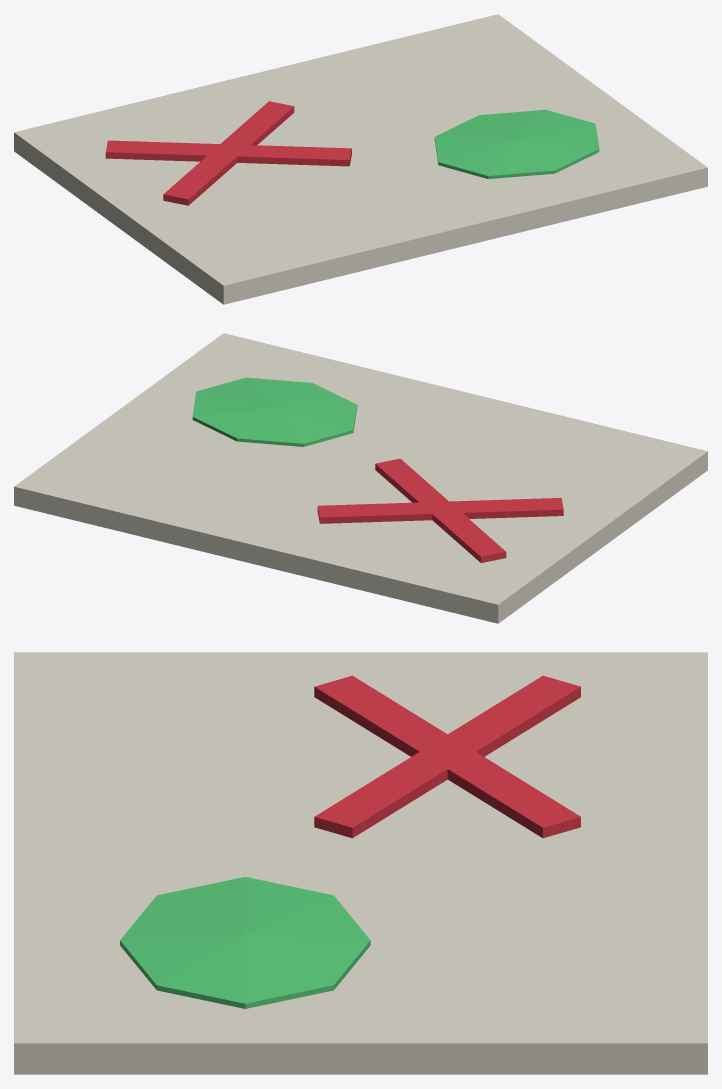
File: formula_sheet.glb
3 views of the same model, one above another, from view 1: azimuth 30°, elevation 25°; view 2: azimuth 150°, elevation 25°; view 3: azimuth 270°, elevation 25° (orthographic). The views are drawn at different scales.
Parts seen in each view (by area): view 1: paper_letter_paper, stain_jug_plastic, mark_ink_red (×2); view 2: paper_letter_paper, stain_jug_plastic, mark_ink_red (×2); view 3: paper_letter_paper, stain_jug_plastic, mark_ink_red (×2).
Boxes of the visible parts, <box> form: paper_letter_paper: <box>14,14,707,304</box>; stain_jug_plastic: <box>434,109,599,178</box>; mark_ink_red (×2): <box>105,101,351,205</box>; paper_letter_paper: <box>14,333,707,623</box>; stain_jug_plastic: <box>192,377,357,446</box>; mark_ink_red (×2): <box>317,458,563,562</box>; paper_letter_paper: <box>14,652,707,1074</box>; stain_jug_plastic: <box>120,877,370,1008</box>; mark_ink_red (×2): <box>314,675,580,838</box>.
Bounding box in the file's own units: 0.16 × 0.008 × 0.12.
